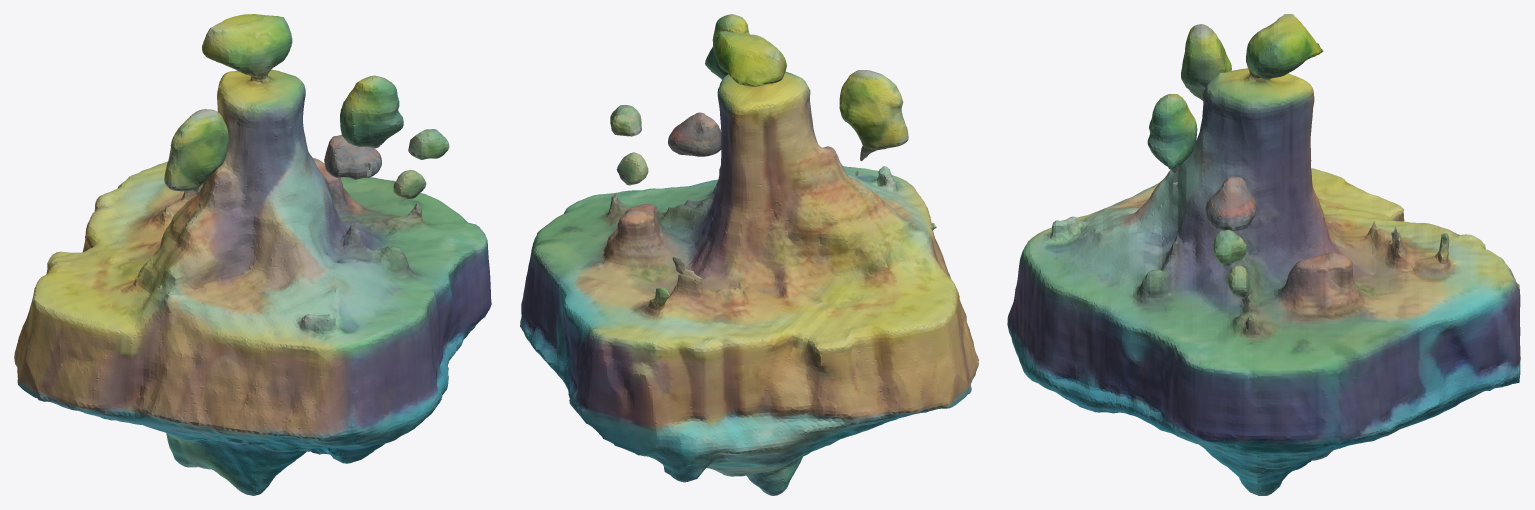
The picture shows the model from 3 angles, left to right: view 1: azimuth 30°, elevation 25°; view 2: azimuth 150°, elevation 25°; view 3: azimuth 270°, elevation 25°; orthographic projection. The views are drawn at different scales.
Visible parts, largest first — view 1: world; view 2: world; view 3: world.
Boxes of the visible parts, <box> form: world: <box>14,14,491,495</box>; world: <box>520,14,978,495</box>; world: <box>1007,14,1520,495</box>.
Bounding box in the file's own units: 1.95 × 1.98 × 1.97.
